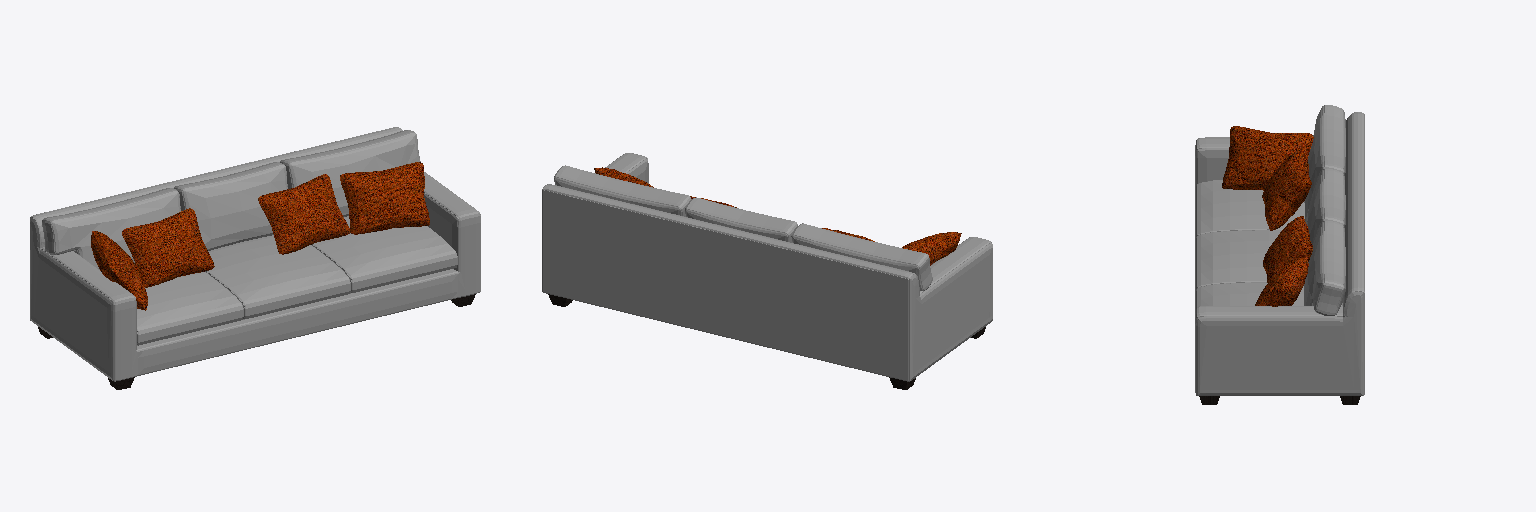
The picture shows the model from 3 angles: view 1: azimuth 30°, elevation 25°; view 2: azimuth 150°, elevation 25°; view 3: azimuth 270°, elevation 25°; orthographic projection.
Bounding box in the file's own units: 2.65 × 0.8608 × 1.05.
Materials: 3 (2 with a texture image).